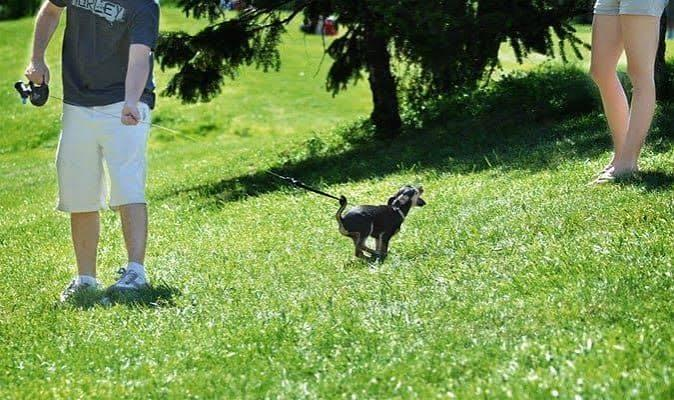non-dog: (24, 0, 162, 300), (591, 0, 670, 186)
puppy-dog: (335, 186, 427, 262)
